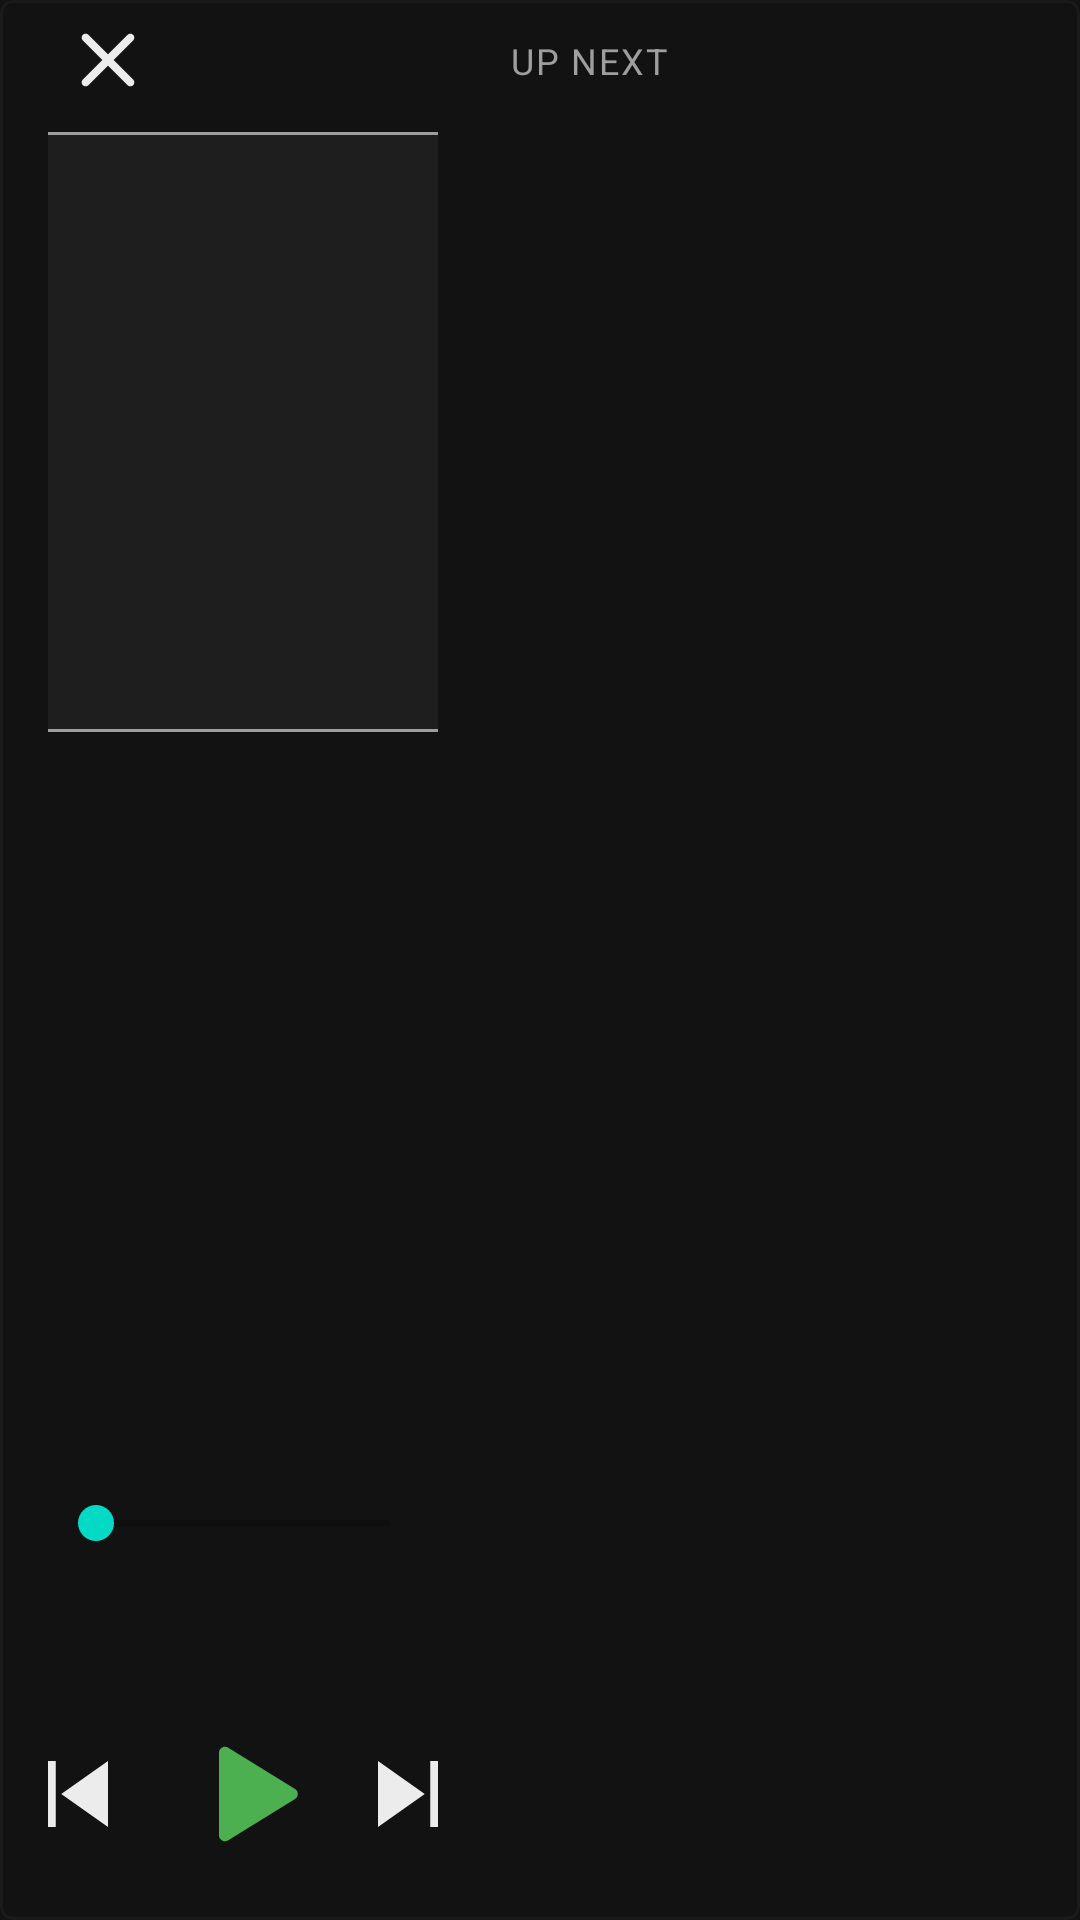

Icon bounding boxes for this 1080px x 1920px phone screenshot, format (x1, y1, x2, y2):
Close: (81, 33, 135, 87)
Play or pause: (219, 1746, 298, 1842)
